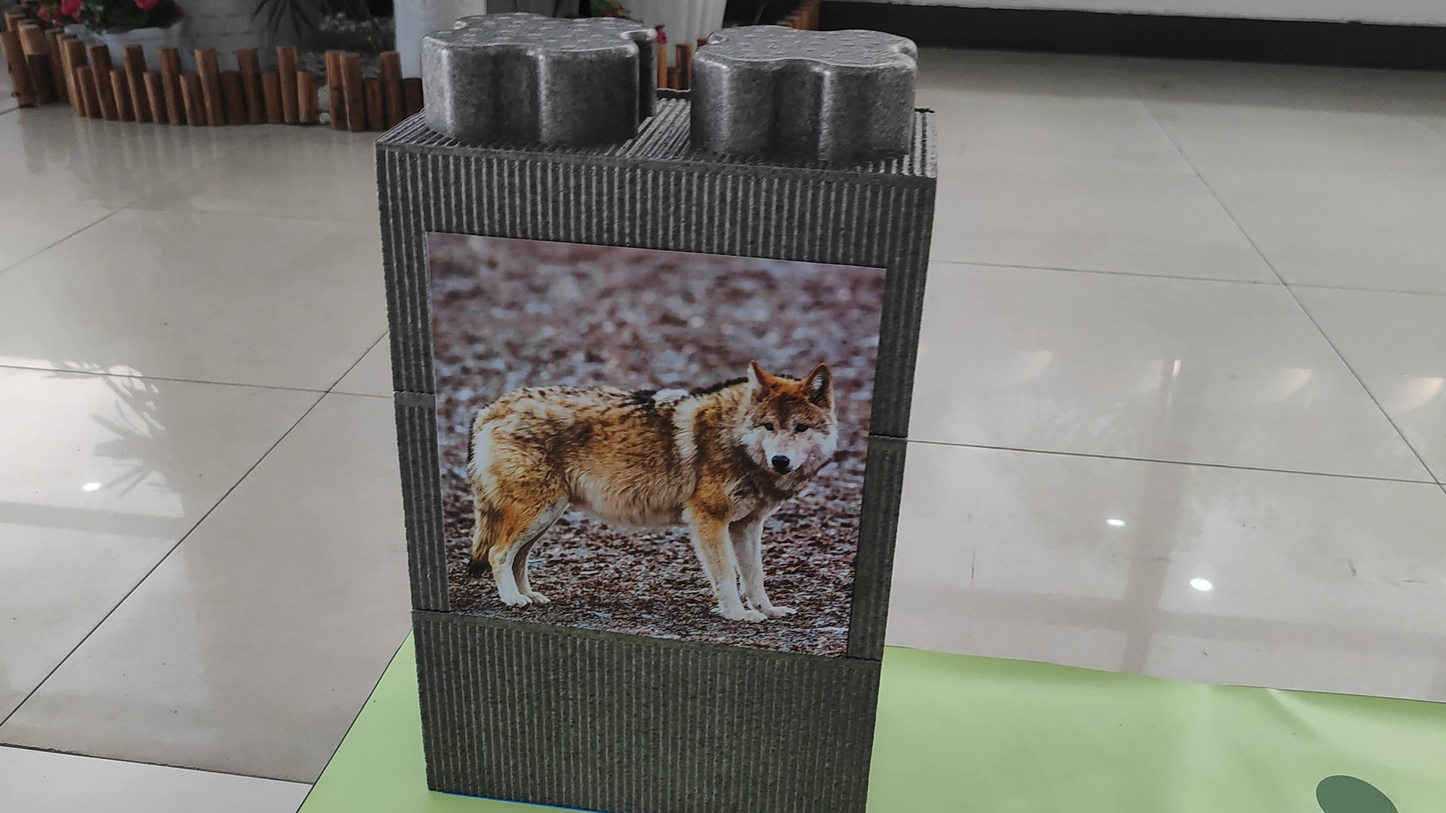wolf: (429, 247, 854, 631)
